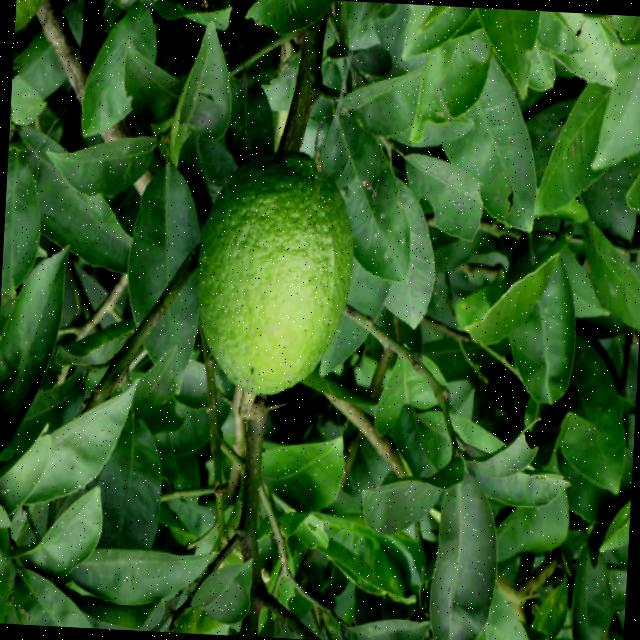Unripe: (190, 146, 360, 404)
